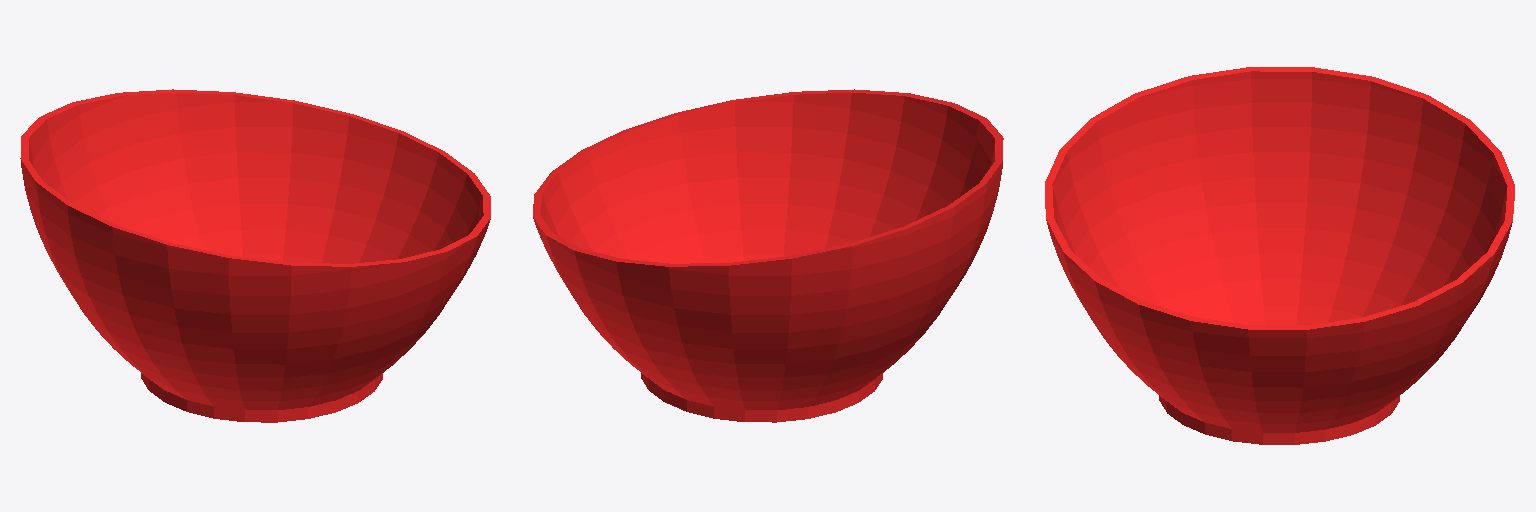
URDF robot description (bowl):
<?xml version="0.0" ?>
<robot name="bowl">
    <link concave="yes" name="base_link">
        <!-- <contact>
            <lateral_friction value="3.0"/>
            <rolling_friction value="3.0"/>
            <spinning_friction value="3.0"/>
        </contact> -->
        <inertial>
            <origin xyz="0 0 0.03"/>
            <mass value="1"/>
            <inertia ixx="1" ixy="0" ixz="0" iyy="1" iyz="0" izz="1"/>
        </inertial>
        <visual>
            <origin xyz="-0.62 -0.38 0"/>
            <geometry>
                <mesh filename="bowl.obj" scale="0.013 0.013 0.01"/>
            </geometry>
      <material name="bowl">
        <color rgba="1 0.2 0.2 1"/>
        <specular rgb="1 1 1"/>
      </material>
        </visual>
        <collision concave="yes">
            <origin xyz="-0.62 -0.38 0"/>
            <geometry>
                <mesh filename="bowl.obj" scale="0.013 0.013 0.01"/>
            </geometry>
        </collision>
    </link>
</robot>

--- Facts derived from the render (not from the file) ---
3 views of the same robot in one strip: view 1: azimuth 30°, elevation 25°; view 2: azimuth 150°, elevation 25°; view 3: azimuth 270°, elevation 25° (orthographic).
Model bowl with 1 links and 0 joints (none), rooted at base_link, posed all joints at 0.
Visible links, largest first — view 1: base_link; view 2: base_link; view 3: base_link.
Boxes of the visible links, x1,y1,x2,y2 form: base_link: [20, 89, 490, 422]; base_link: [533, 89, 1003, 422]; base_link: [1045, 67, 1514, 444].
Bounding box of the posed robot: 0.1387 × 0.1403 × 0.0742 m (x, y, z).
Meshes: 1 distinct files referenced, 1 mesh visuals loaded (1 OBJ).